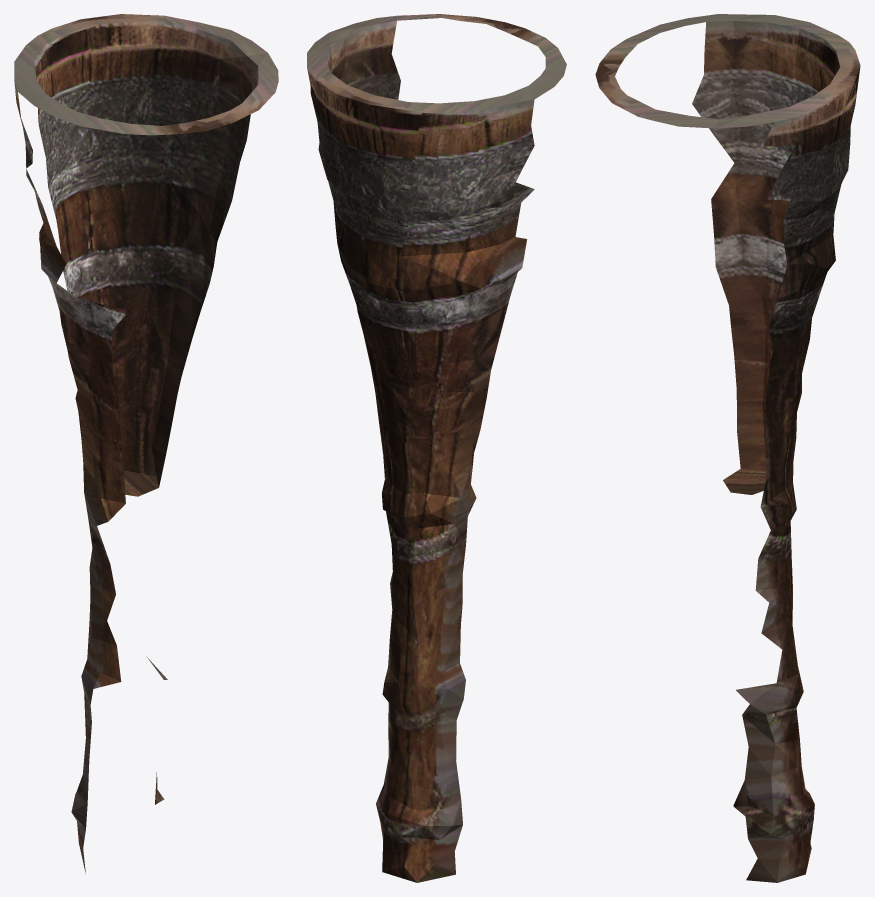
Rendered from w_torch.glb.
The picture shows the model from 3 angles, left to right: view 1: azimuth 30°, elevation 25°; view 2: azimuth 150°, elevation 25°; view 3: azimuth 270°, elevation 25°; orthographic projection. The views are drawn at different scales.
Visible parts, largest first — view 1: geometry_0; view 2: geometry_0; view 3: geometry_0.
Boxes of the visible parts, x1,y1,x2,y2 form: geometry_0: [14, 14, 278, 873]; geometry_0: [307, 14, 566, 882]; geometry_0: [595, 14, 860, 882].
Size of the model in its own units: 0.1797 by 0.6037 by 0.1792.
1 material, 1 textured.
